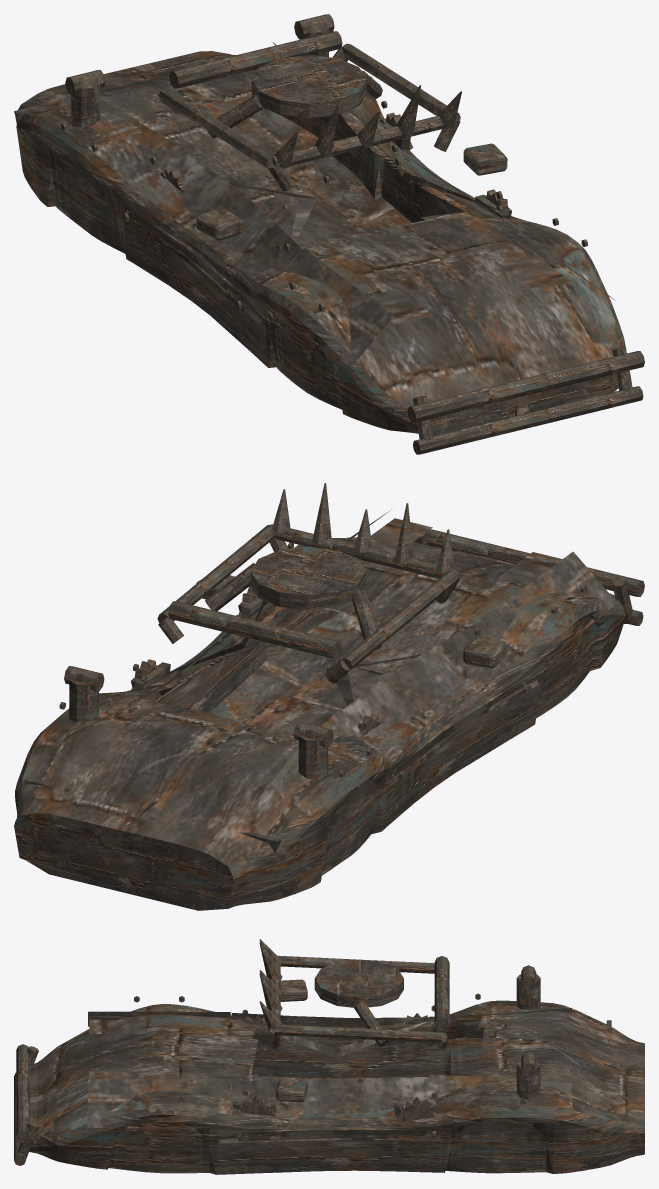
File: koenigsegg_jesko.glb
The picture shows the model from 3 angles, top to bottom: view 1: azimuth 30°, elevation 25°; view 2: azimuth 150°, elevation 25°; view 3: azimuth 270°, elevation 25°; orthographic projection. The views are drawn at different scales.
Visible parts, largest first — view 1: kit-full-plating-painted-metal, kit-bull-bar-painted-metal, kit-turret-mount-painted-metal, kit-scrapper-painted-metal, kit-cage-painted-metal, kit-plate-2-painted-metal, warlord-crossbar, kit-crown-painted-metal, kit-stack-0-painted-metal, kit-plate-3-painted-metal, kit-raider-painted-metal, kit-stack-1-painted-metal; view 2: kit-full-plating-painted-metal, kit-turret-mount-painted-metal, kit-scrapper-painted-metal, kit-cage-painted-metal, kit-plate-2-painted-metal, warlord-crossbar, kit-bull-bar-painted-metal, kit-crown-painted-metal, kit-stack-0-painted-metal, kit-stack-1-painted-metal, kit-plate-3-painted-metal, kit-raider-painted-metal (+1 smaller); view 3: kit-full-plating-painted-metal, kit-scrapper-painted-metal, kit-turret-mount-painted-metal, kit-cage-painted-metal, kit-plate-0-painted-metal, kit-bull-bar-painted-metal, kit-raider-painted-metal, kit-plate-1-painted-metal, kit-crown-painted-metal, warlord-crossbar, kit-stack-1-painted-metal, kit-stack-0-painted-metal (+6 smaller).
Part boxes in pixels (bbox=[...]): kit-full-plating-painted-metal: bbox=[14, 51, 626, 435]; kit-bull-bar-painted-metal: bbox=[407, 347, 644, 454]; kit-turret-mount-painted-metal: bbox=[207, 55, 382, 138]; kit-scrapper-painted-metal: bbox=[133, 101, 502, 304]; kit-cage-painted-metal: bbox=[158, 43, 460, 190]; kit-plate-2-painted-metal: bbox=[284, 248, 394, 367]; warlord-crossbar: bbox=[169, 31, 342, 88]; kit-crown-painted-metal: bbox=[274, 85, 461, 168]; kit-stack-0-painted-metal: bbox=[65, 70, 105, 127]; kit-plate-3-painted-metal: bbox=[59, 94, 187, 170]; kit-raider-painted-metal: bbox=[79, 152, 425, 324]; kit-stack-1-painted-metal: bbox=[294, 14, 334, 57]; kit-full-plating-painted-metal: bbox=[14, 518, 626, 910]; kit-turret-mount-painted-metal: bbox=[205, 546, 382, 650]; kit-scrapper-painted-metal: bbox=[133, 601, 529, 768]; kit-cage-painted-metal: bbox=[157, 524, 460, 683]; kit-plate-2-painted-metal: bbox=[480, 551, 617, 640]; warlord-crossbar: bbox=[168, 601, 341, 658]; kit-bull-bar-painted-metal: bbox=[413, 529, 644, 625]; kit-crown-painted-metal: bbox=[272, 483, 454, 572]; kit-stack-0-painted-metal: bbox=[293, 722, 333, 780]; kit-stack-1-painted-metal: bbox=[64, 666, 104, 722]; kit-plate-3-painted-metal: bbox=[271, 710, 372, 814]; kit-raider-painted-metal: bbox=[159, 641, 538, 817]; kit-full-plating-painted-metal: bbox=[29, 979, 644, 1174]; kit-scrapper-painted-metal: bbox=[231, 1005, 437, 1132]; kit-turret-mount-painted-metal: bbox=[314, 959, 403, 1046]; kit-cage-painted-metal: bbox=[269, 955, 447, 1049]; kit-plate-0-painted-metal: bbox=[88, 1079, 230, 1128]; kit-bull-bar-painted-metal: bbox=[14, 1044, 38, 1165]; kit-raider-painted-metal: bbox=[219, 1025, 503, 1143]; kit-plate-1-painted-metal: bbox=[429, 1074, 571, 1129]; kit-crown-painted-metal: bbox=[259, 939, 282, 1031]; warlord-crossbar: bbox=[434, 956, 449, 1031]; kit-stack-1-painted-metal: bbox=[516, 1052, 540, 1100]; kit-stack-0-painted-metal: bbox=[516, 965, 540, 1009].
Bounding box in the file's own units: 2.14 × 1.56 × 5.05.
1 material, 1 textured.
